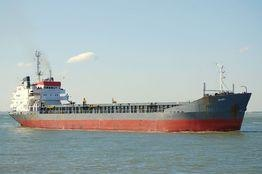Cargoship: (4, 47, 255, 133)
